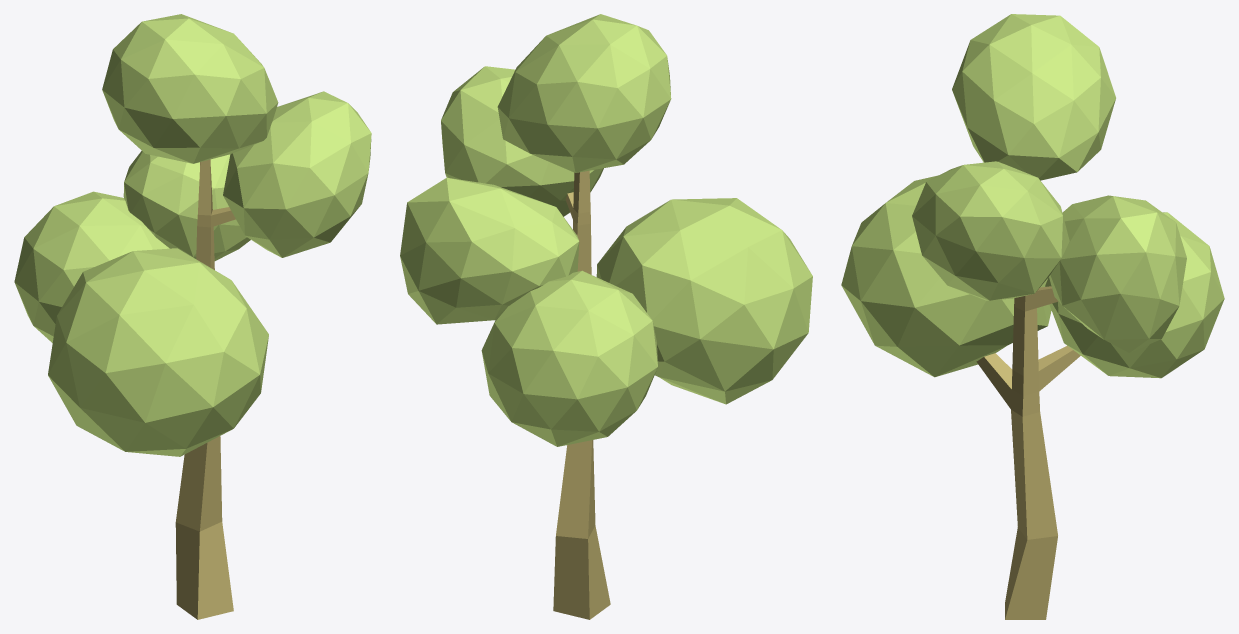
The model's file is OakTree2Light2.fbx.
3 renders of one model, left to right at view 1: azimuth 30°, elevation 25°; view 2: azimuth 150°, elevation 25°; view 3: azimuth 270°, elevation 25°, orthographic. The views are drawn at different scales.
Parts seen in each view (by area): view 1: OakTree2; view 2: OakTree2; view 3: OakTree2.
Part boxes in pixels (bbox=[...]): OakTree2: bbox=[14, 14, 371, 619]; OakTree2: bbox=[400, 14, 812, 619]; OakTree2: bbox=[841, 14, 1224, 619].
Bounding box in the file's own units: 427 × 763 × 458.
